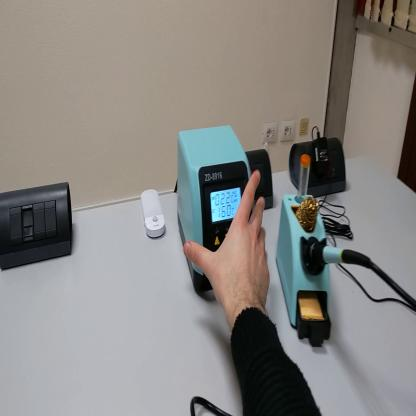hand: (185, 170, 271, 317)
socket: (289, 137, 348, 197), (248, 150, 277, 209)
welder base: (277, 155, 334, 348)
welder probe tip: (321, 244, 366, 265)
welder station: (177, 127, 251, 293)
